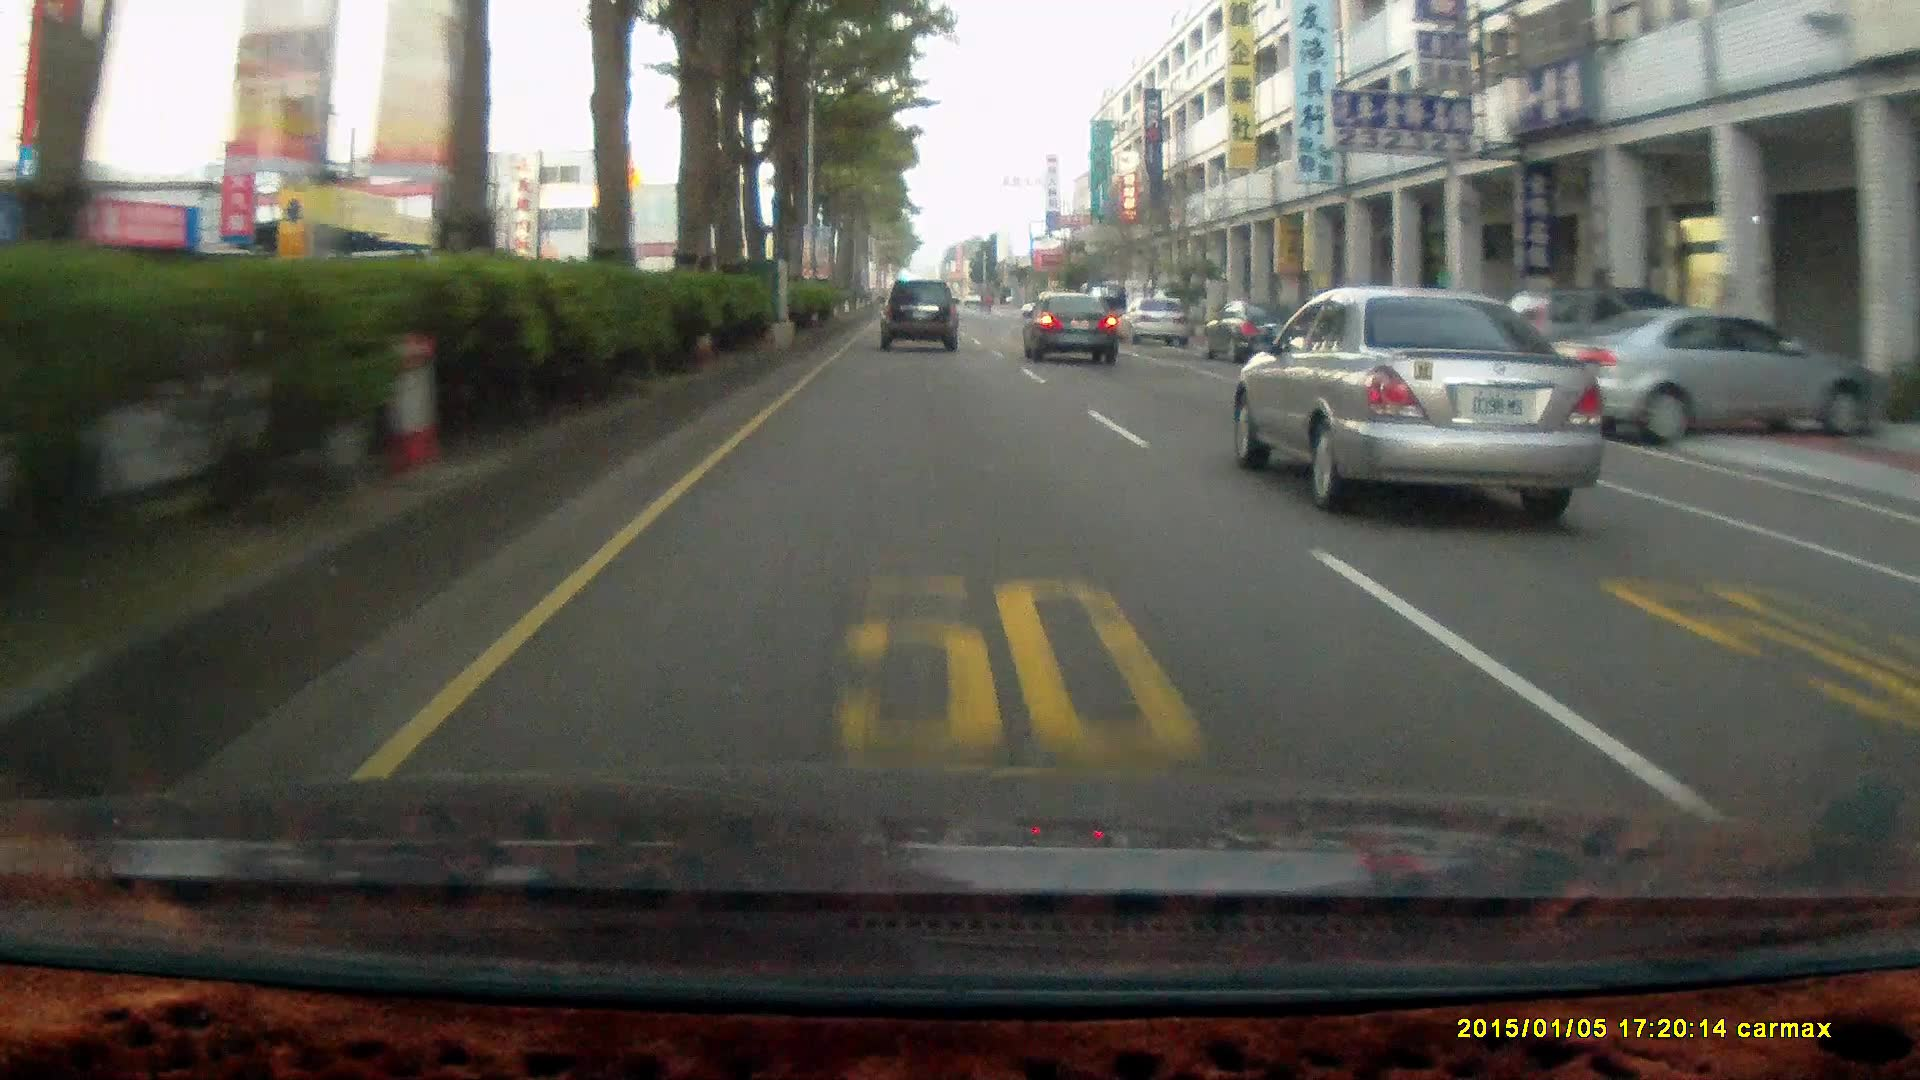vehicle: (1226, 286, 1618, 520), (1526, 309, 1898, 448), (1538, 307, 1878, 446), (1494, 285, 1716, 405), (1200, 297, 1317, 365), (1021, 290, 1117, 365), (1025, 295, 1124, 367), (880, 280, 961, 356), (877, 278, 960, 349), (1114, 295, 1189, 347), (1125, 298, 1193, 348)
